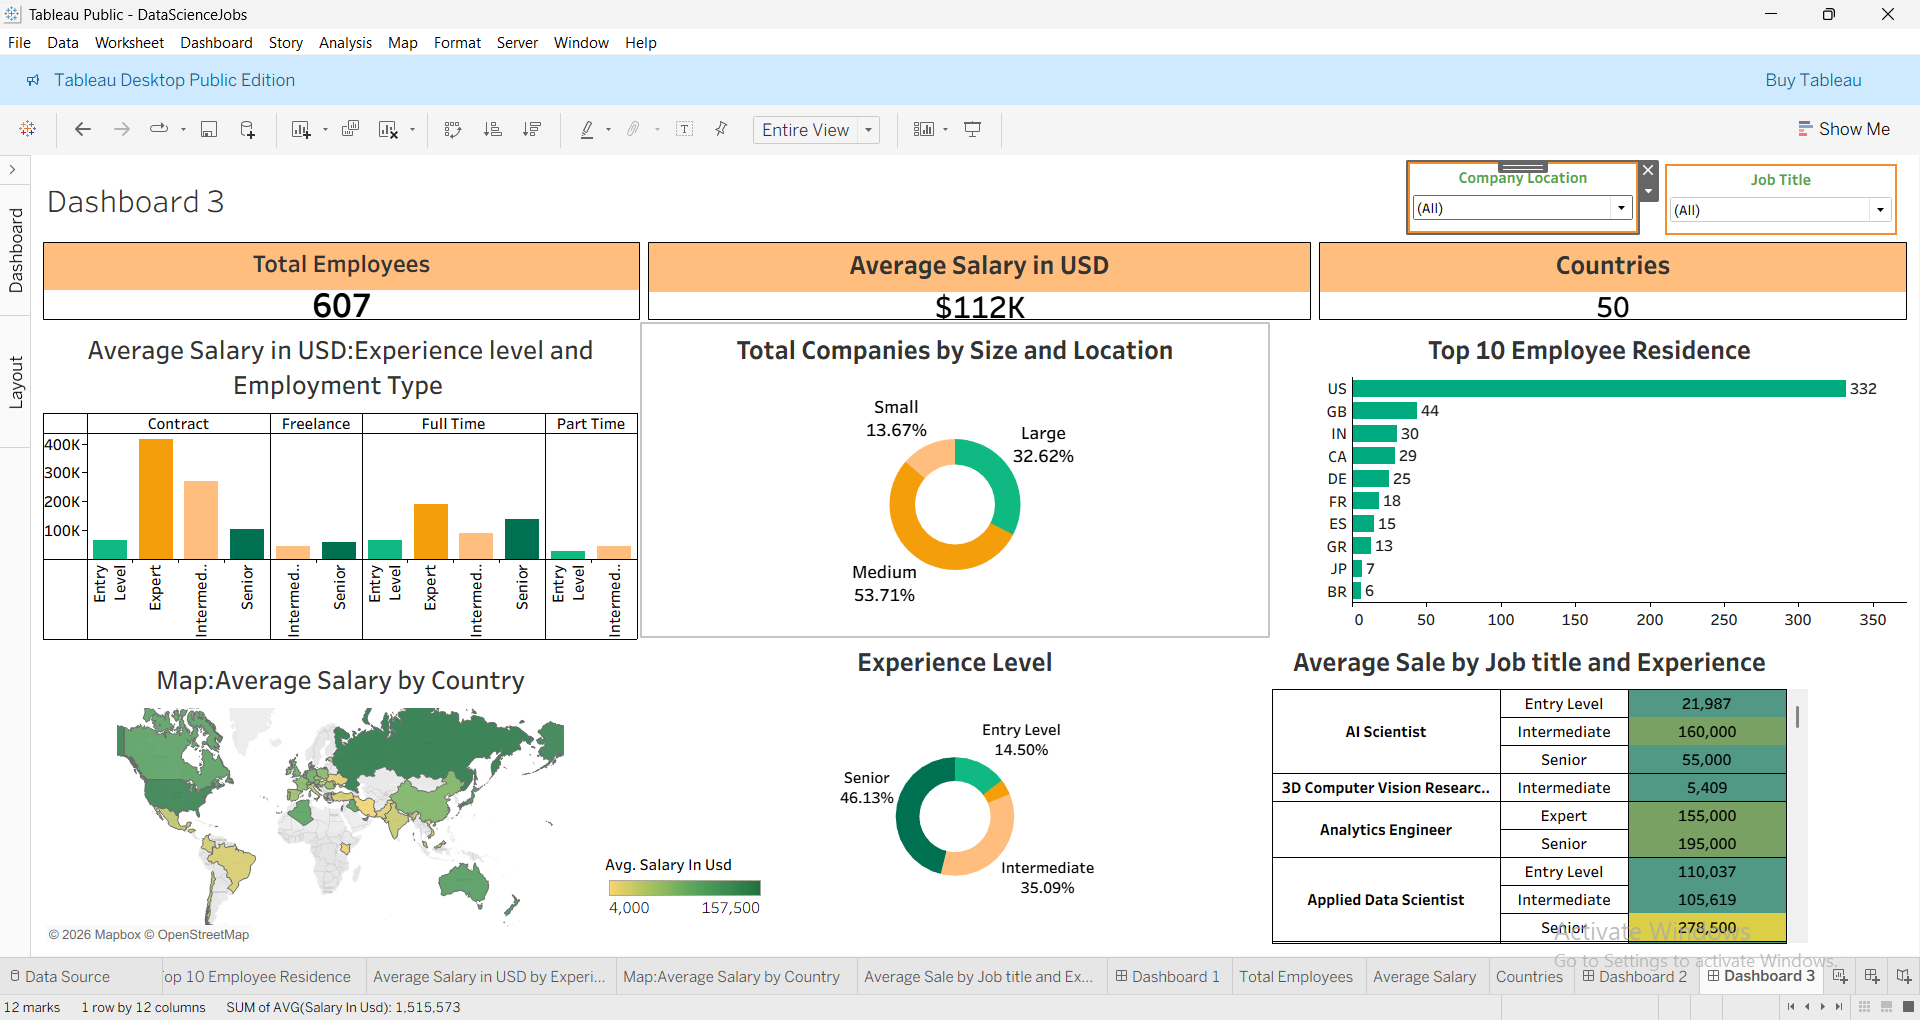

Layout of this report page (visuals, bound fields, positions):
{"tool":"tableau","page":{"name":"Dashboard 1","canvas":[1000,1000],"units":"permille","ordinal":0},"visuals":[{"type":"title","box":[8.6,10.1,982.7,61.9]},{"type":"worksheet","title":"Total Employees","mark":"Automatic","box":[8.6,72,277.2,116]},{"type":"worksheet","title":"Average Salary","mark":"Automatic","box":[285.8,72,289.6,116]},{"type":"worksheet","title":"Countries","mark":"Automatic","box":[575.4,72,188.9,116]},{"type":"filter","title":"Average Salary in USD by Experience level and Employment Type ","param":"[federated.0fnnrji0wa4xuf10lf9yf109d79g].[none:job_title:nk]","box":[764.4,72,117.4,116]},{"type":"filter","title":"Average Salary in USD by Experience level and Employment Type ","param":"[federated.0fnnrji0wa4xuf10lf9yf109d79g].[none:company_location:nk]","box":[881.8,72,109.6,116]},{"type":"worksheet","title":"Average Salary in USD by Experience level and Employment Type ","mark":"Automatic","rows":["salary_in_usd"],"cols":["employment_type","experience_level"],"box":[8.6,188,347.9,481.7]},{"type":"worksheet","title":"Total Companies by Size and Location","mark":"Pie","rows":["Calculation_0439265303076865","Calculation_0439265303076865"],"box":[356.5,188,230.6,287]},{"type":"worksheet","title":"Average Sale by Job title and Experience","mark":"Square","rows":["job_title","experience_level"],"box":[587.1,188,404.2,400.9]},{"type":"worksheet","title":"Employment Type","mark":"Pie","rows":["Calculation_0439265303076865","Calculation_0439265303076865"],"box":[356.5,475,230.6,257.4]},{"type":"worksheet","title":"Map:Average Salary by Country","mark":"Automatic","box":[587.1,588.9,404.2,401]},{"type":"worksheet","title":"Top 10 Employee Residence","mark":"Automatic","rows":["employee_residence"],"cols":["employee_residence"],"box":[8.6,669.7,347.9,320.2]},{"type":"worksheet","title":"Experience Level","mark":"Pie","rows":["Calculation_0439265303076865","Calculation_0439265303076865"],"box":[356.5,732.4,230.6,257.5]},{"type":"legend","title":"Map:Average Salary by Country","param":"[federated.0fnnrji0wa4xuf10lf9yf109d79g].[avg:salary_in_usd:qk]","box":[688.6,868.9,84.8,109.9]}]}

Visuals, with their boxes on the dashboard's canvas, which has no fixed pixel size, in thousandths of its width and height (x1, y1, x2, y2). These are canvas units, not pixel positions in the 1920x1020 screenshot, which may show the page scaled, cropped or inside an application window:
title: (9, 10, 991, 72)
"Total Employees" worksheet: (9, 72, 286, 188)
"Average Salary" worksheet: (286, 72, 575, 188)
"Countries" worksheet: (575, 72, 764, 188)
"Average Salary in USD by Experience level and Employment Type " filter: (764, 72, 882, 188)
"Average Salary in USD by Experience level and Employment Type " filter: (882, 72, 991, 188)
"Average Salary in USD by Experience level and Employment Type " worksheet: (9, 188, 356, 670)
"Total Companies by Size and Location" worksheet (Pie marks): (356, 188, 587, 475)
"Average Sale by Job title and Experience" worksheet (Square marks): (587, 188, 991, 589)
"Employment Type" worksheet (Pie marks): (356, 475, 587, 732)
"Map:Average Salary by Country" worksheet: (587, 589, 991, 990)
"Top 10 Employee Residence" worksheet: (9, 670, 356, 990)
"Experience Level" worksheet (Pie marks): (356, 732, 587, 990)
"Map:Average Salary by Country" legend: (689, 869, 773, 979)
